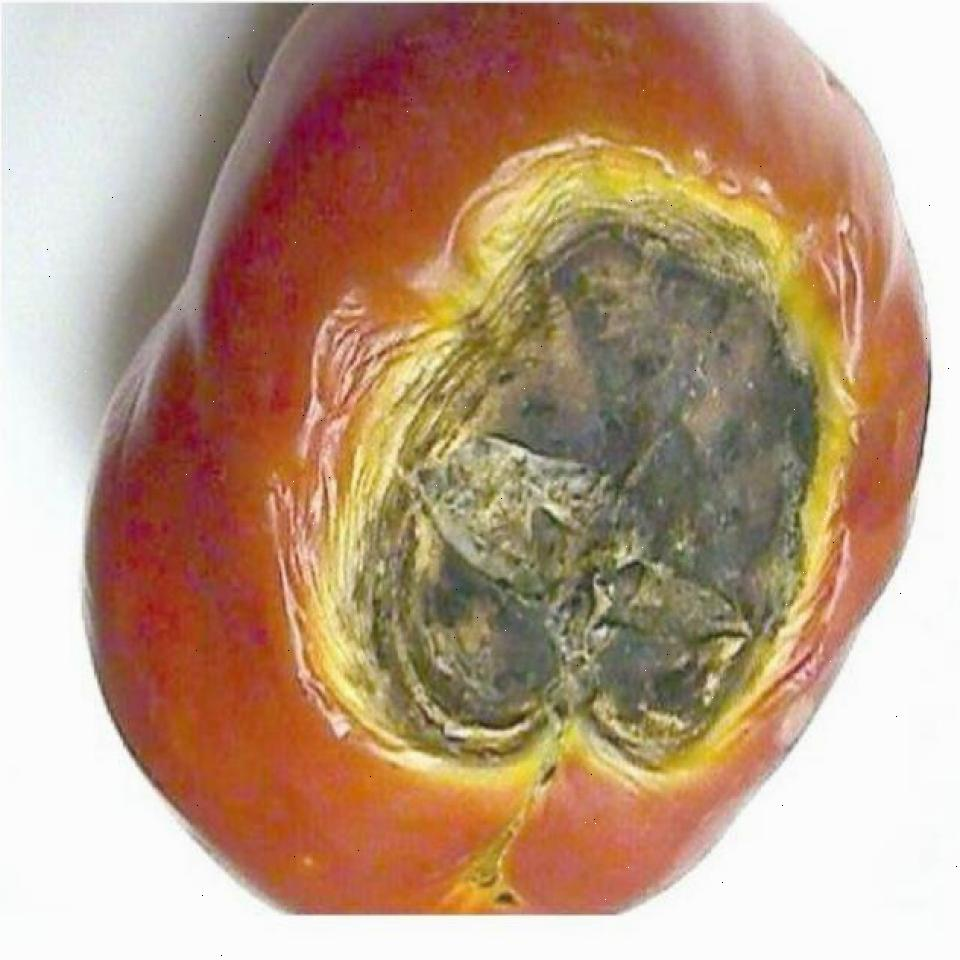Blossom_end_rot: (317, 151, 837, 788)
